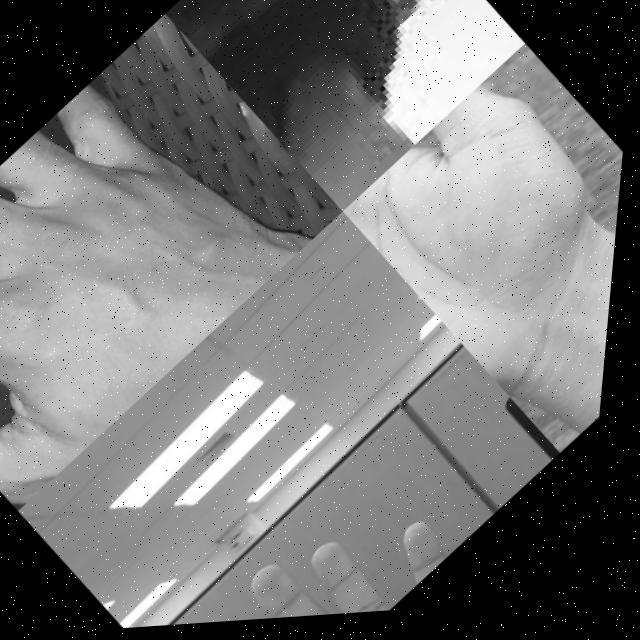no-gloves: (0, 12, 355, 515), (335, 68, 633, 396), (170, 460, 474, 628)
